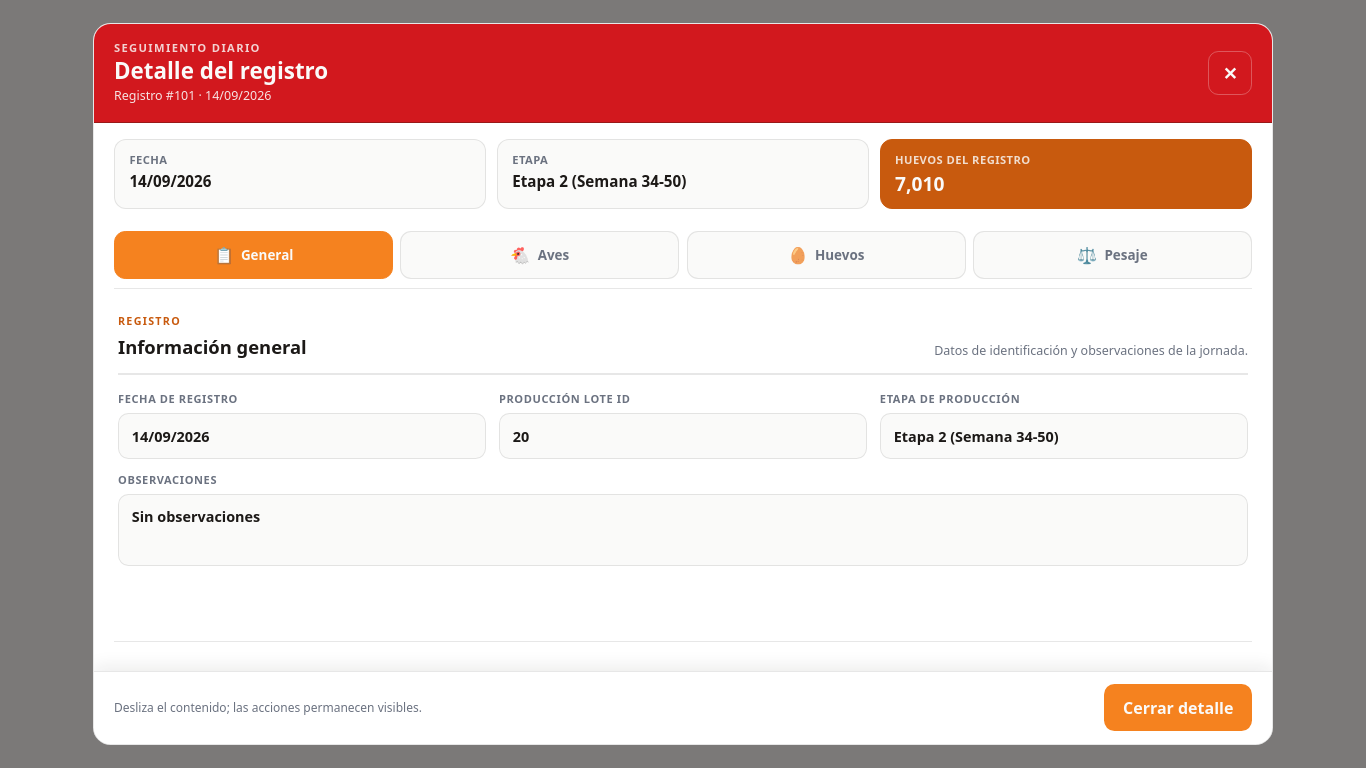
ModalDetalleSeguimientoComponent · detalle responsive › usa botones tactiles y cambia a la pestana Aves
This screenshot has width=1366, height=768.
Step 1. Click the tab with id "det-tab-aves" → point(540, 255), box [400,231,679,279]
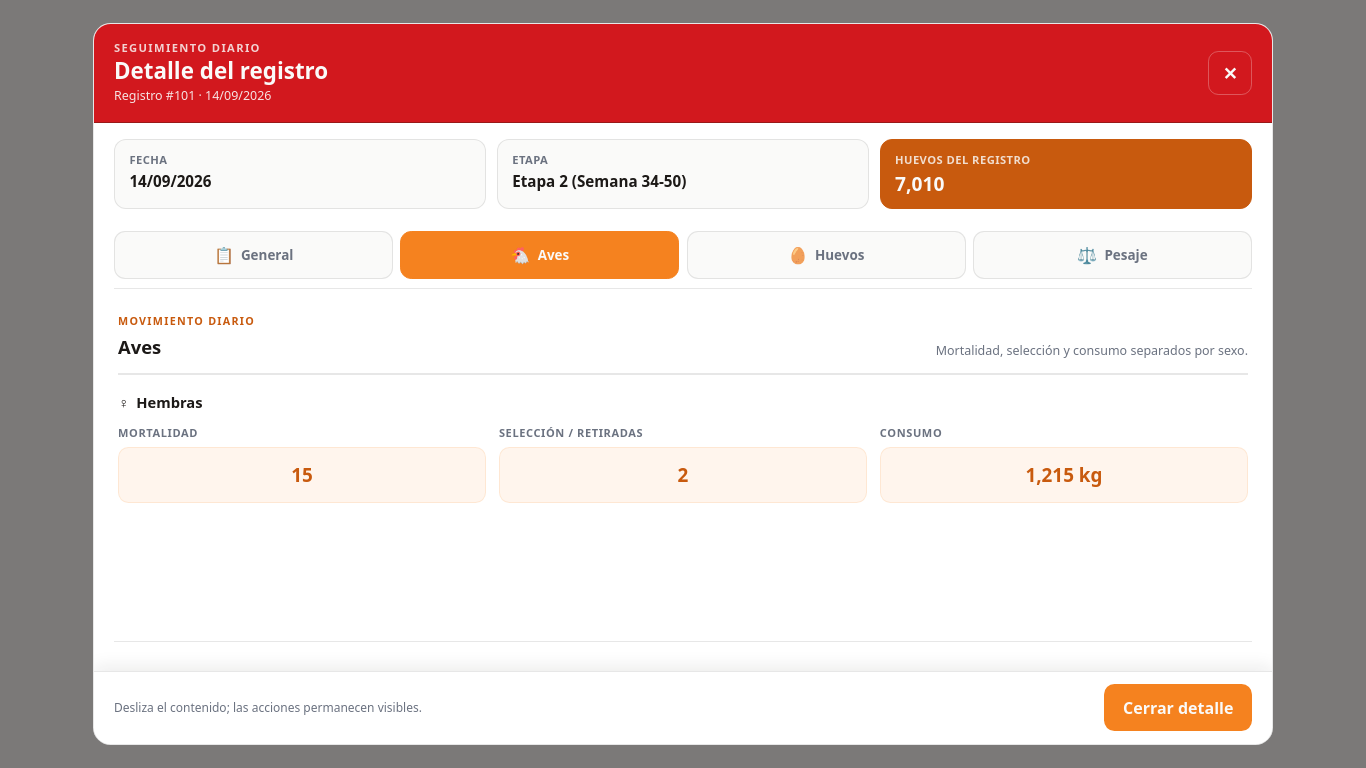
Expected: the panel is shown, [114,303,1252,520]
